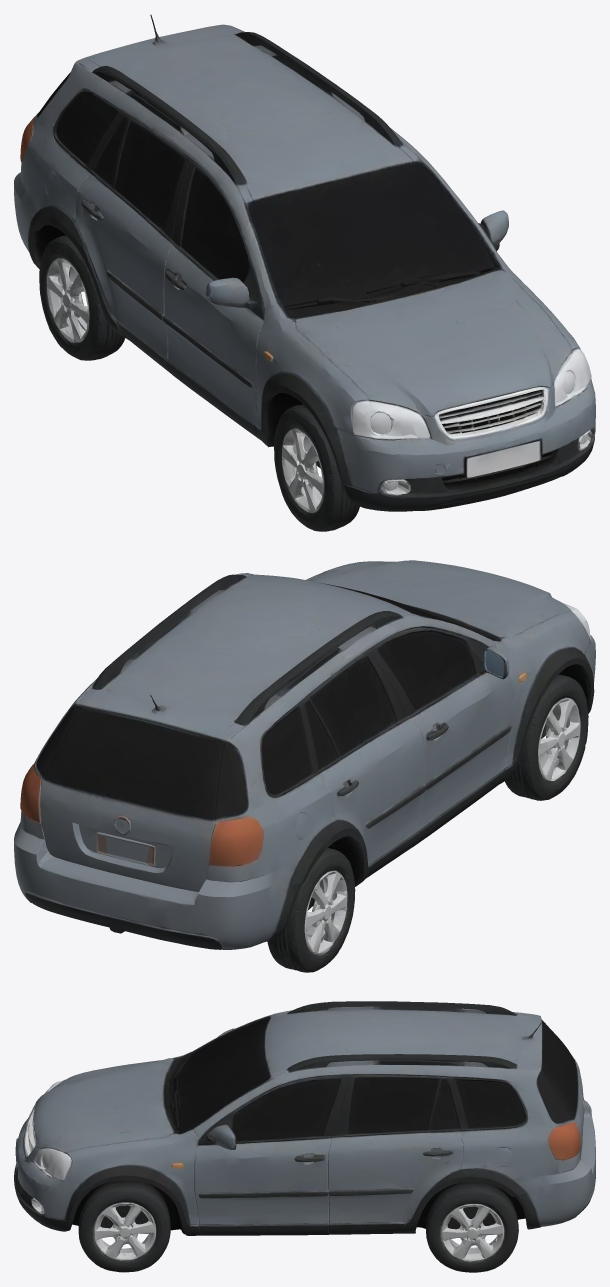
Rendered from fw_veh_suv_ridgeback_lod0.glb.
3 renders of one model, top to bottom at view 1: azimuth 30°, elevation 25°; view 2: azimuth 150°, elevation 25°; view 3: azimuth 270°, elevation 25°, orthographic. The views are drawn at different scales.
Visible parts, largest first — view 1: body, wheel_rf, wheel_rr; view 2: body, wheel_rr, wheel_rf; view 3: body, wheel_lf, wheel_lr.
Boxes of the visible parts, box(x1,y1,x2,y2) form: body: box(14, 14, 595, 511); wheel_rf: box(264, 386, 359, 531); wheel_rr: box(29, 214, 124, 360); body: box(14, 560, 595, 949); wheel_rr: box(267, 822, 367, 972); wheel_rf: box(505, 648, 593, 800); body: box(14, 1001, 595, 1235); wheel_lf: box(64, 1169, 180, 1272); wheel_lr: box(411, 1172, 529, 1272).
Bounding box in the file's own units: 2.08 × 1.83 × 4.7.
1 material, 1 textured.
